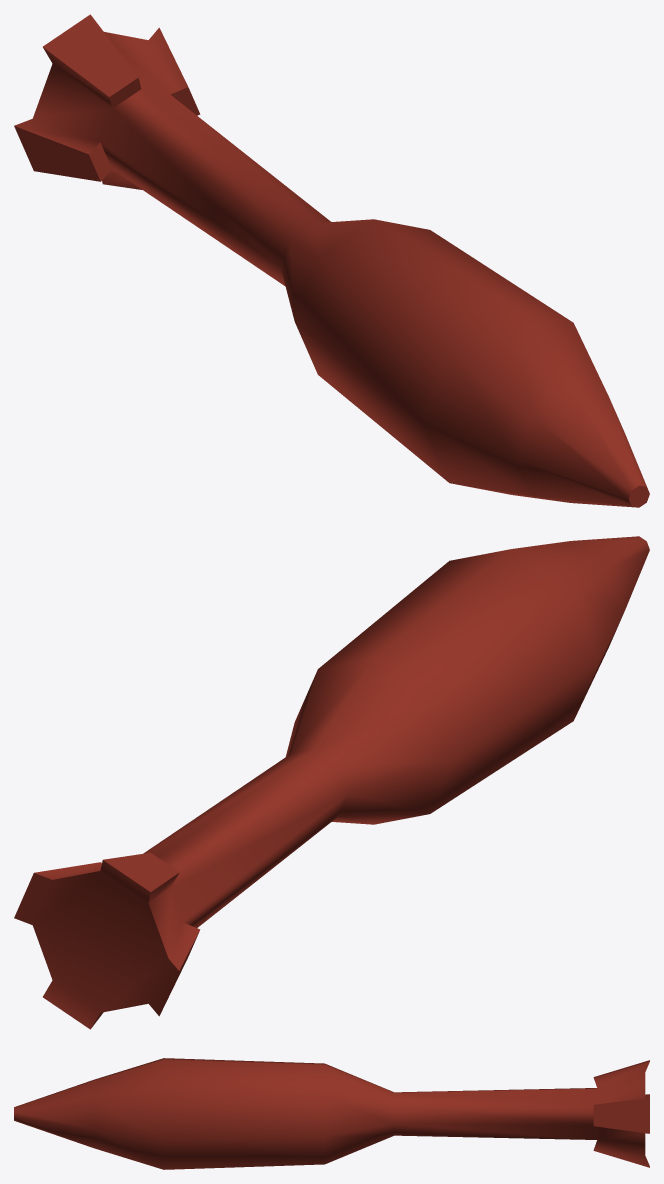
The model's file is Mortar01.FBX.
3 renders of one model, top to bottom at view 1: azimuth 30°, elevation 25°; view 2: azimuth 150°, elevation 25°; view 3: azimuth 270°, elevation 25°, orthographic. The views are drawn at different scales.
Visible parts, largest first — view 1: Mortar01; view 2: Mortar01; view 3: Mortar01.
Part boxes in pixels (left/top/right/bottom): Mortar01: left=14, top=14, right=649, bottom=507; Mortar01: left=14, top=536, right=649, bottom=1029; Mortar01: left=14, top=1058, right=649, bottom=1169.
Size of the model in its own units: 23.15 by 124 by 23.15.
